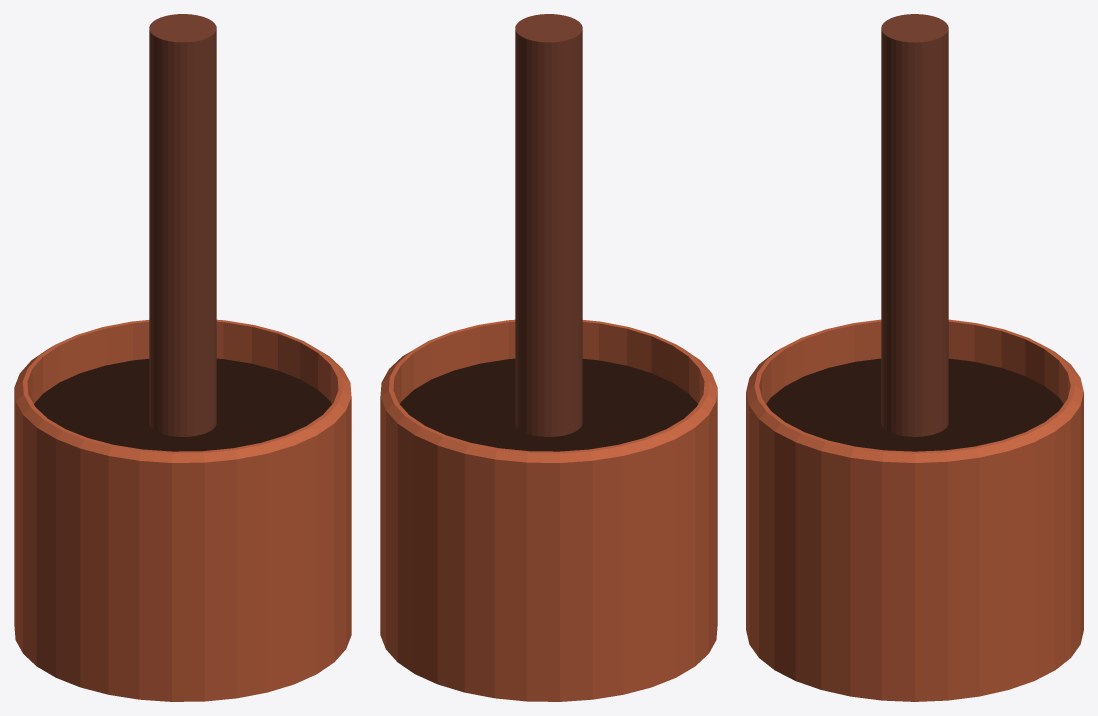
Rendered from potplant_pot.glb.
3 views of the same model, side by side, from view 1: azimuth 30°, elevation 25°; view 2: azimuth 150°, elevation 25°; view 3: azimuth 270°, elevation 25° (orthographic).
Parts seen in each view (by area): view 1: Cylinder; view 2: Cylinder; view 3: Cylinder.
Boxes of the visible parts, bbox=[...] form: Cylinder: bbox=[14, 14, 351, 701]; Cylinder: bbox=[380, 14, 717, 701]; Cylinder: bbox=[746, 14, 1083, 701].
Bounding box in the file's own units: 1 × 1.97 × 1.
